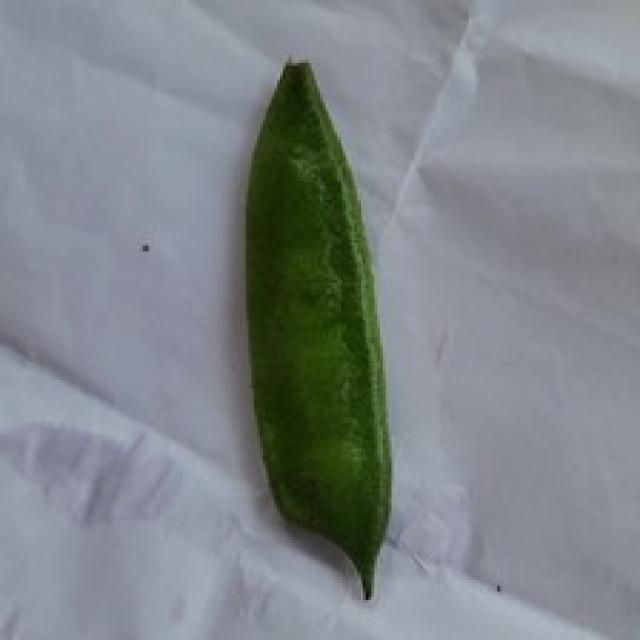Bean: (240, 54, 391, 600)
